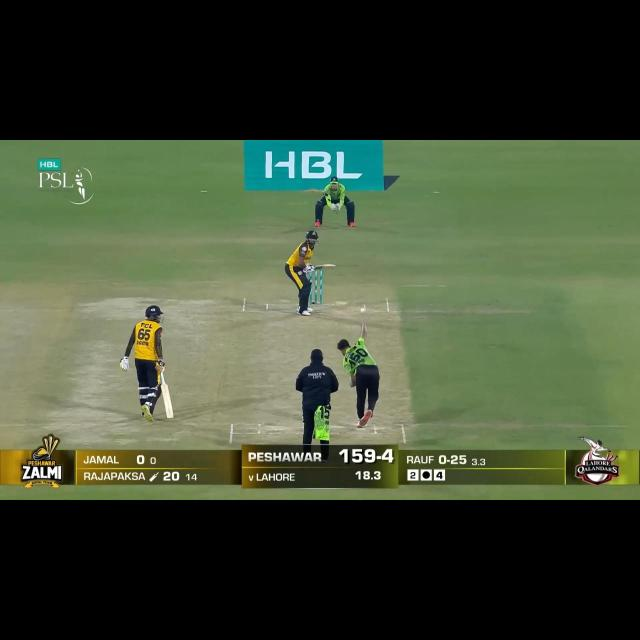bat: (160, 384, 177, 420), (314, 263, 336, 271)
toe: (164, 413, 176, 419), (329, 262, 336, 271)
